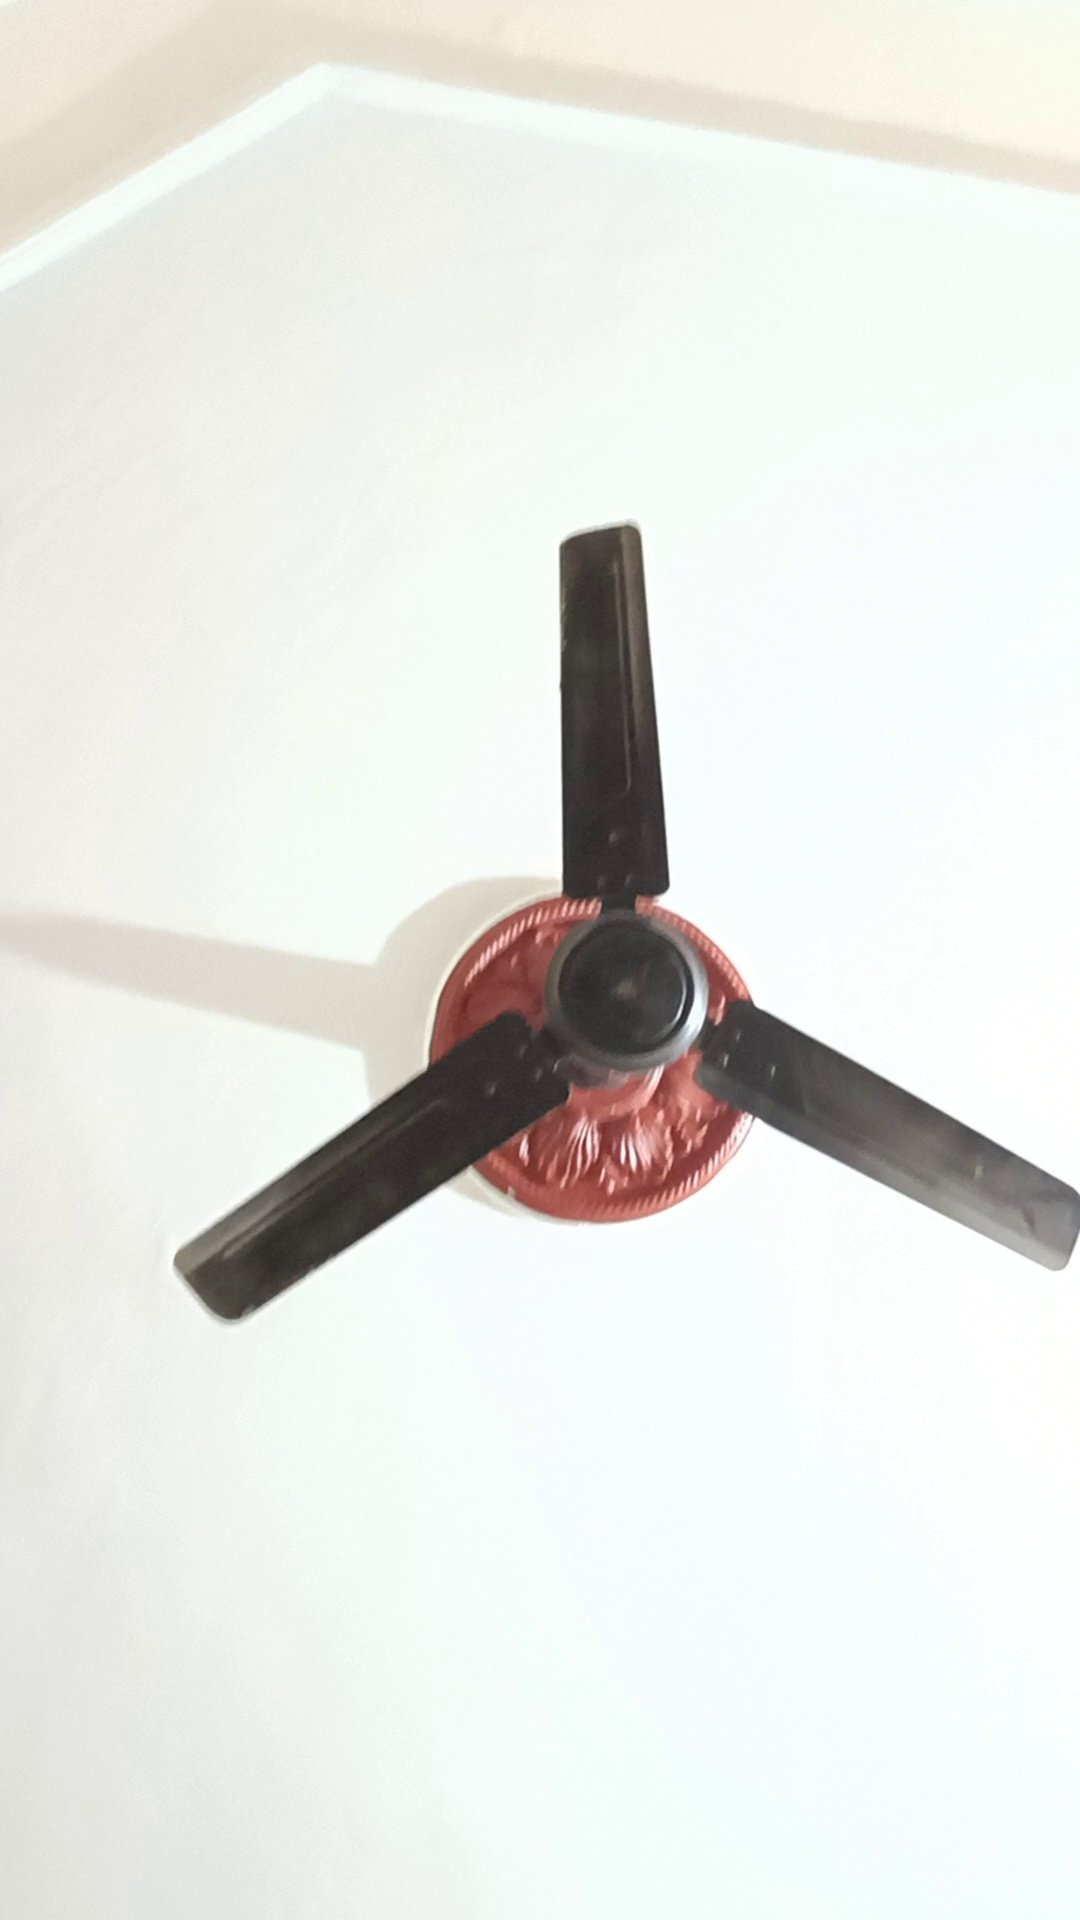fan: (153, 530, 1080, 1311)
